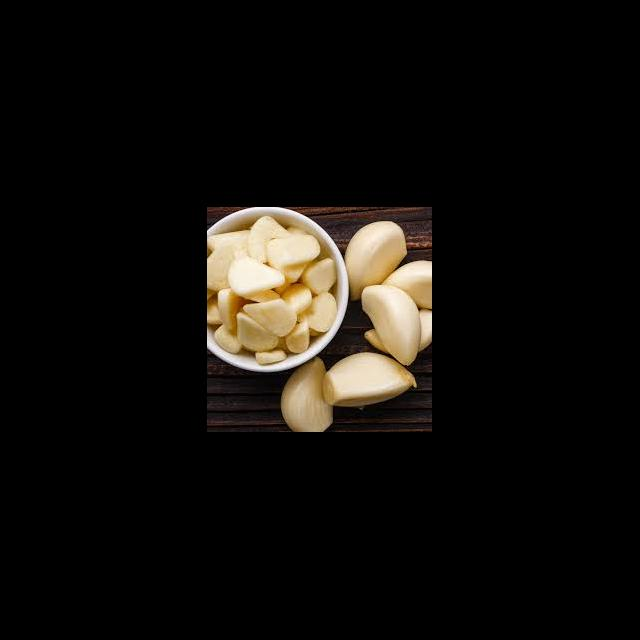garlic: (214, 234, 318, 344)
